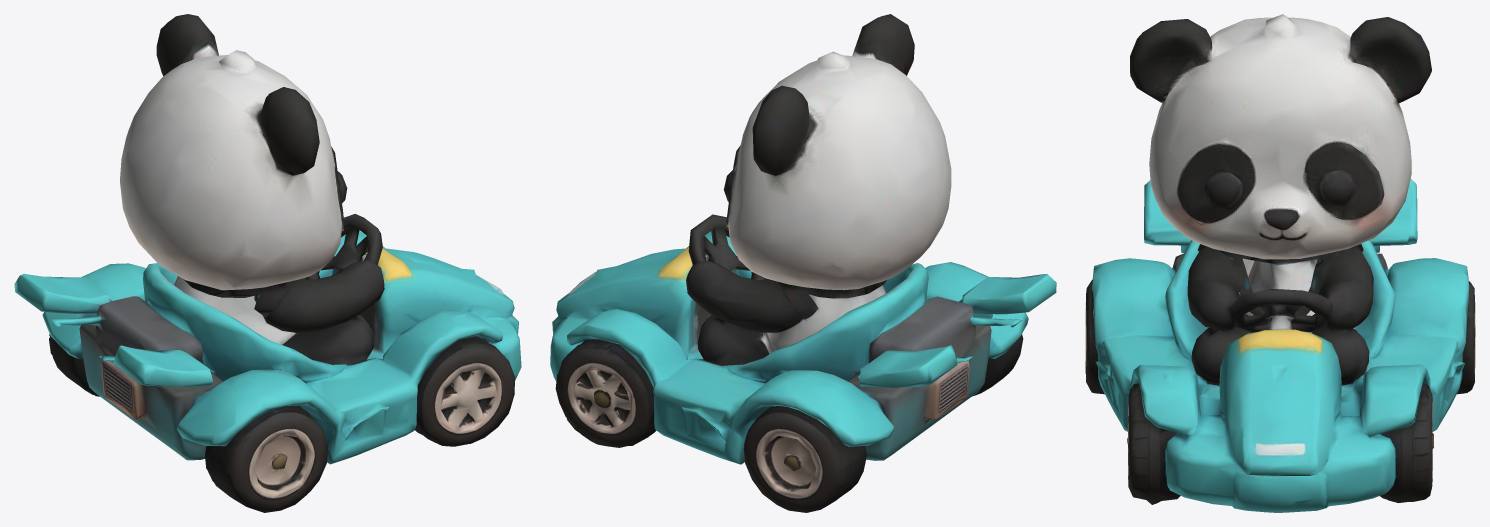
Rendered from panda.glb.
3 views of the same model, side by side, from view 1: azimuth 30°, elevation 25°; view 2: azimuth 150°, elevation 25°; view 3: azimuth 270°, elevation 25° (orthographic). The views are drawn at different scales.
Visible parts, largest first — view 1: tripo_node_b0bcb92a-0440-4aa3-984a-1436675c2d18; view 2: tripo_node_b0bcb92a-0440-4aa3-984a-1436675c2d18; view 3: tripo_node_b0bcb92a-0440-4aa3-984a-1436675c2d18.
Part boxes in pixels (x1,y1,x2,y2): tripo_node_b0bcb92a-0440-4aa3-984a-1436675c2d18: [14, 14, 521, 512]; tripo_node_b0bcb92a-0440-4aa3-984a-1436675c2d18: [550, 14, 1056, 512]; tripo_node_b0bcb92a-0440-4aa3-984a-1436675c2d18: [1085, 14, 1475, 512].
Size of the model in its own units: 1 by 0.86 by 0.7631.
Materials: 1 (1 with a texture image).
